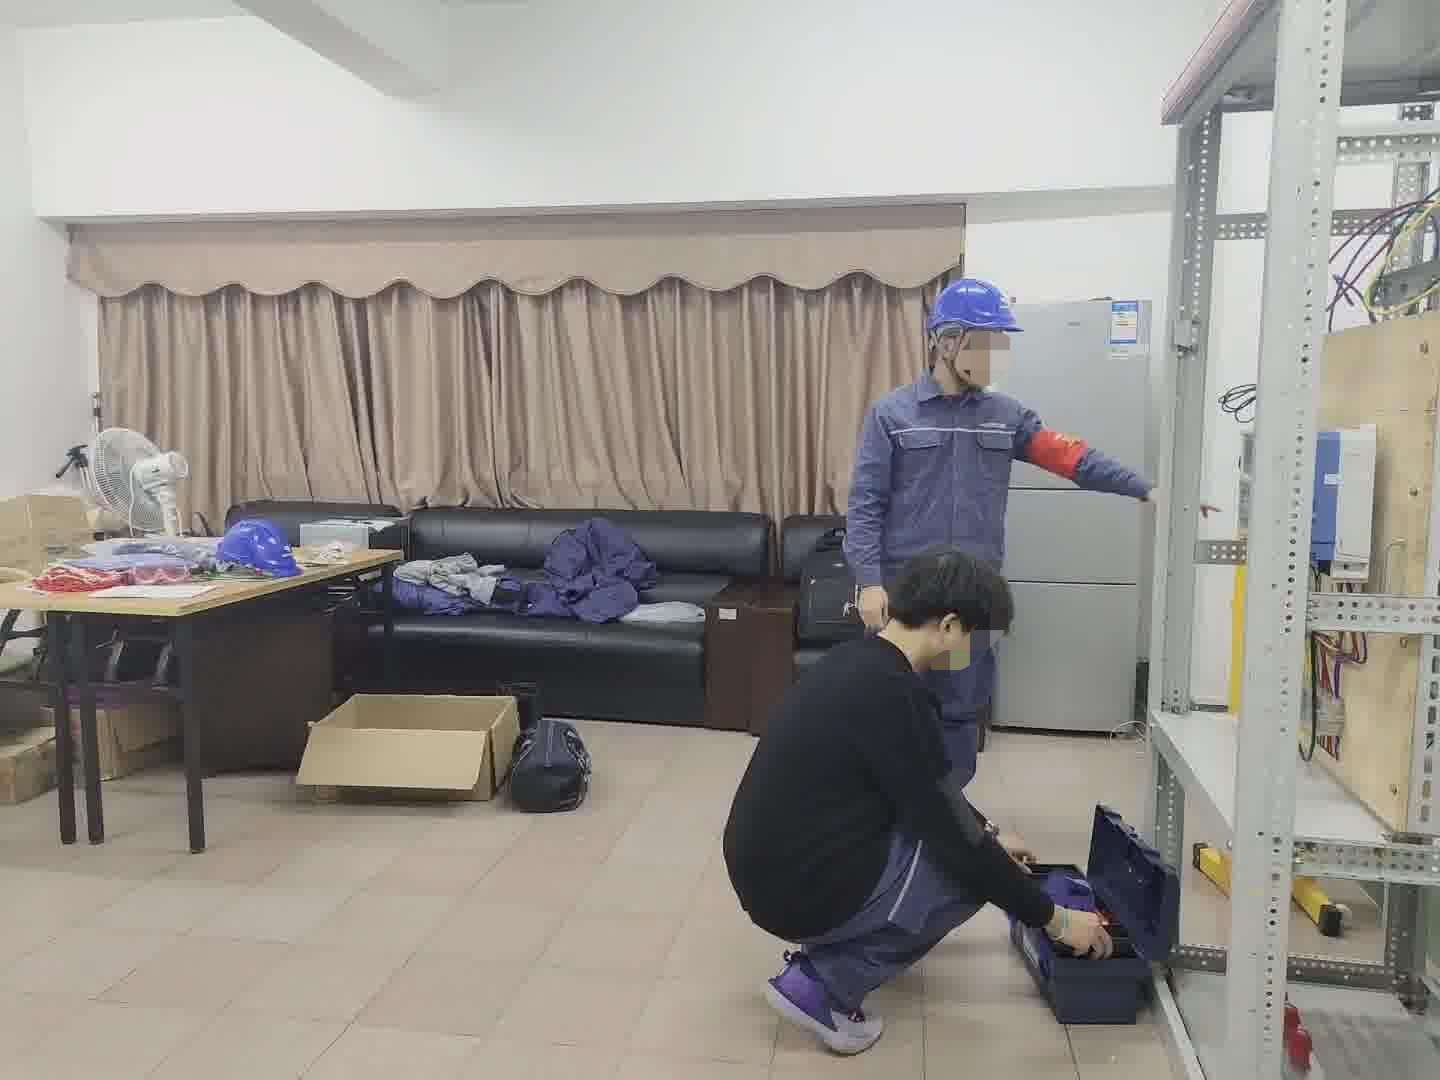halt: (924, 280, 1023, 393)
inear: (932, 327, 969, 376)
noear: (917, 611, 982, 673)
unhalt: (887, 549, 1015, 677)
